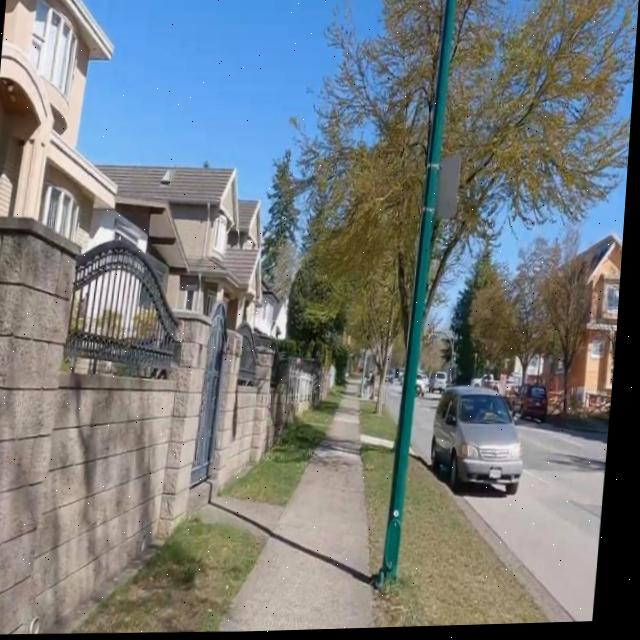Automobile: (436, 388, 529, 497), (526, 387, 552, 423), (436, 374, 453, 395), (422, 372, 432, 398)
Road: (469, 425, 613, 626), (474, 423, 614, 626), (417, 395, 443, 458), (419, 397, 441, 464), (389, 386, 406, 427)
Sidewalk: (224, 397, 381, 633), (227, 532, 381, 633), (208, 506, 271, 535)
